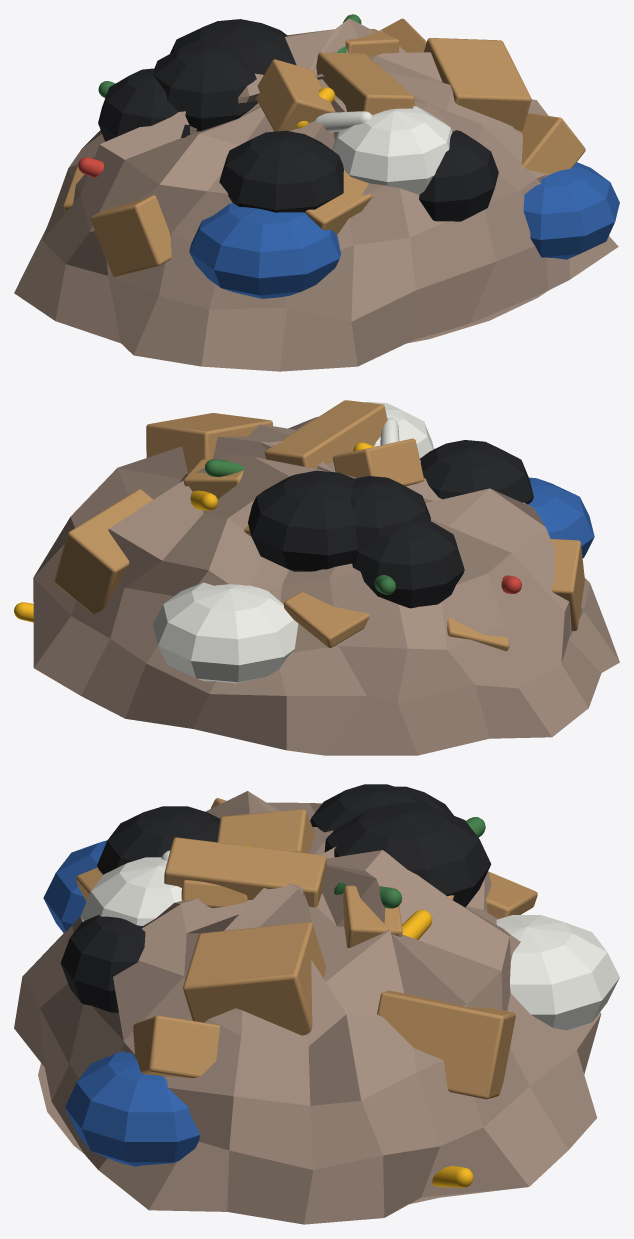
Rendered from heap_mixed_small.fbx.
3 renders of one model, top to bottom at view 1: azimuth 30°, elevation 25°; view 2: azimuth 150°, elevation 25°; view 3: azimuth 270°, elevation 25°, orthographic. The views are drawn at different scales.
Parts seen in each view (by area): view 1: heap_mixed_small; view 2: heap_mixed_small; view 3: heap_mixed_small.
Part boxes in pixels (x1,y1,x2,y2): heap_mixed_small: [14, 14, 619, 371]; heap_mixed_small: [14, 400, 619, 755]; heap_mixed_small: [14, 784, 619, 1224].
Bounding box in the file's own units: 2.05 × 0.7698 × 1.75.
